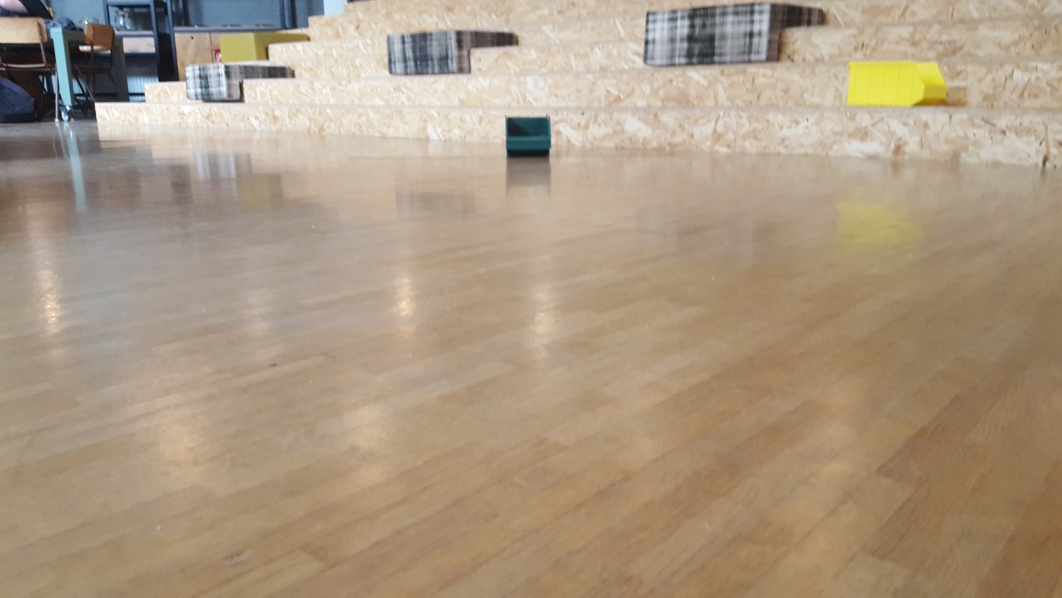tray: (839, 57, 954, 106), (504, 112, 553, 159)
